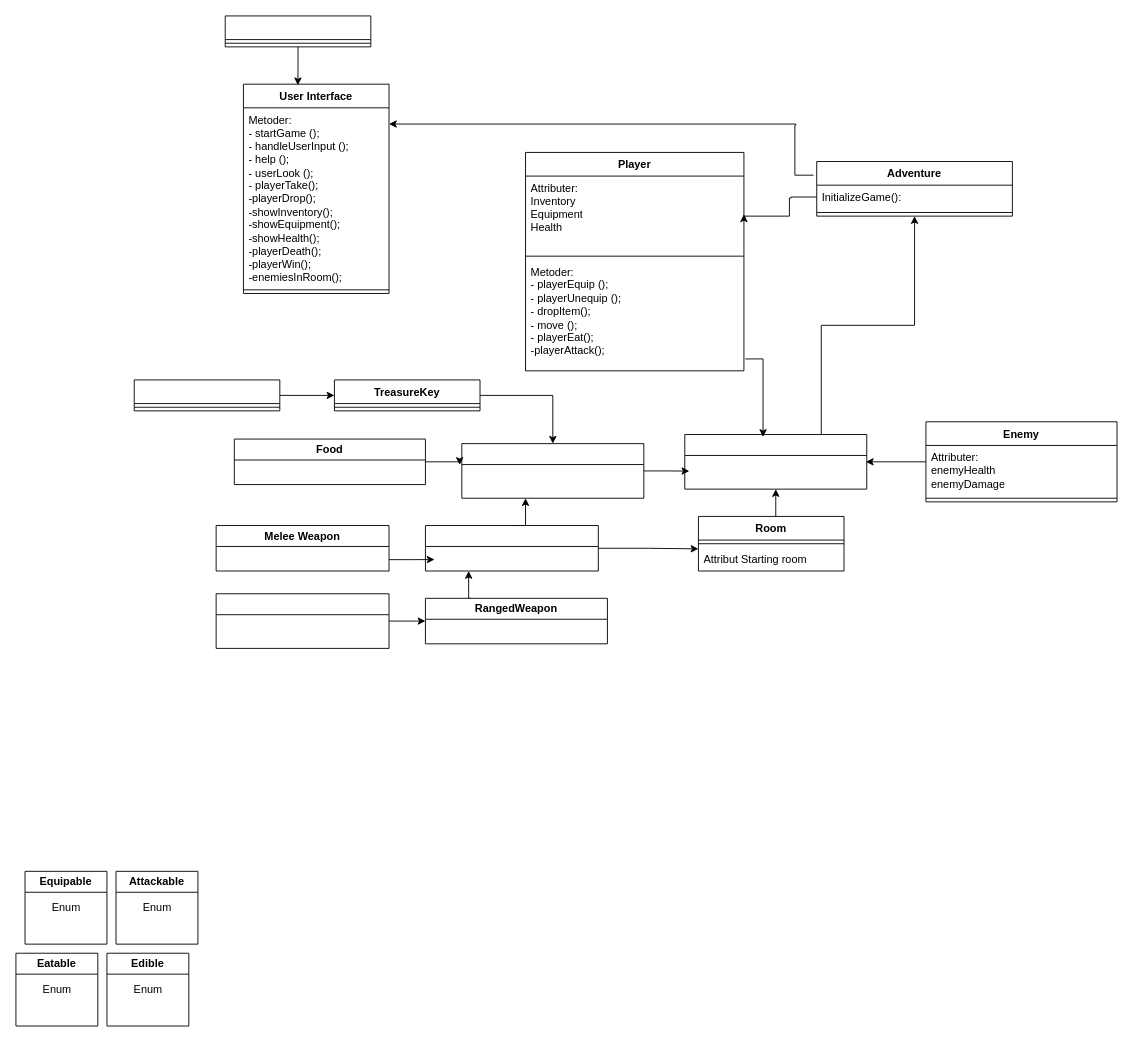
Image size: 1133x1042. Some labels were removed from this diagram. Here are the shapes that lost their labels. From the top down, the centre of each, then its label:
(x=297, y=31): Main
(x=206, y=395): Treasure
(x=552, y=470): Item
(x=775, y=461): Map
(x=511, y=548): Weapon
(x=302, y=620): RangedWeaponAmmo
